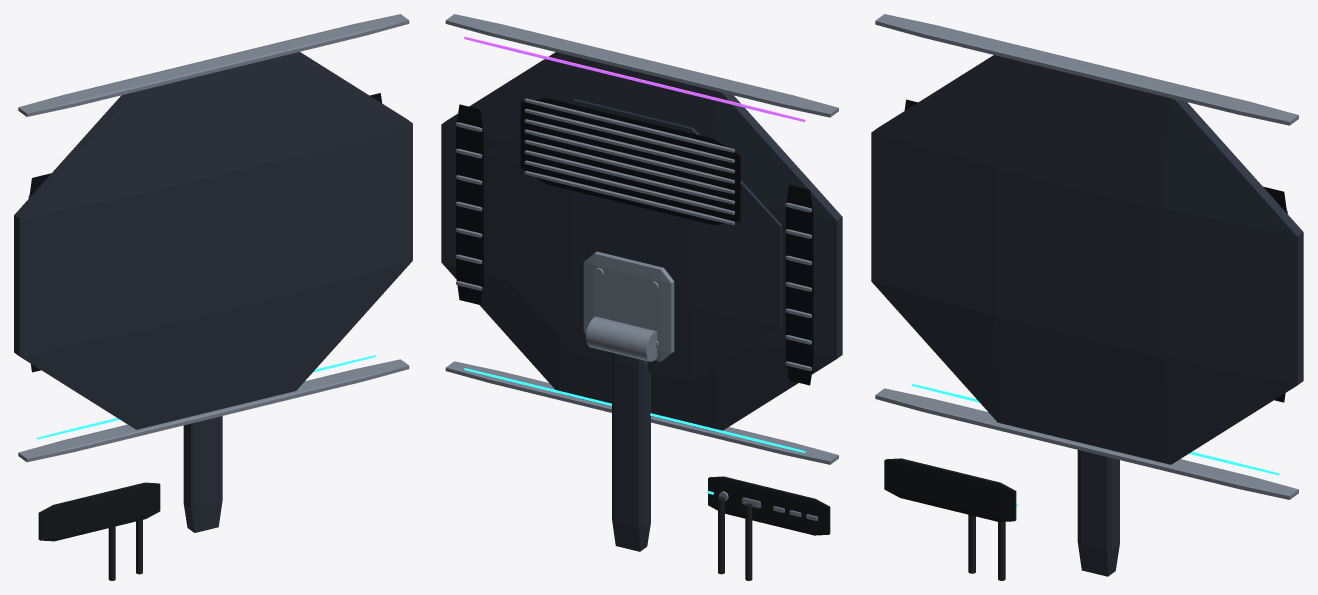
File: monitor-rear-details.glb
3 views of the same model, side by side, from view 1: azimuth 30°, elevation 25°; view 2: azimuth 150°, elevation 25°; view 3: azimuth 330°, elevation 25° (orthographic). The views are drawn at different scales.
Parts seen in each view (by area): view 1: rear-housing-main, rear-housing-trim-top, rear-housing-trim-bottom, rear-io-panel, rear-stand-arm; view 2: rear-housing-main, rear-housing-cap, rear-vent-field, rear-stand-arm, rear-vesa-plate, rear-housing-trim-top, rear-side-vent--1, rear-side-vent-1, rear-io-panel, rear-housing-trim-bottom, rear-hinge, rear-violet-strip (+11 smaller); view 3: rear-housing-main, rear-housing-trim-top, rear-housing-trim-bottom, rear-io-panel, rear-stand-arm.
Part boxes in pixels (<box>): rear-housing-main: <box>14,52,412,429</box>; rear-housing-trim-top: <box>18,14,409,116</box>; rear-housing-trim-bottom: <box>18,359,409,462</box>; rear-io-panel: <box>38,482,160,541</box>; rear-stand-arm: <box>183,416,222,532</box>; rear-housing-main: <box>441,52,842,432</box>; rear-housing-cap: <box>484,99,782,381</box>; rear-vent-field: <box>520,98,740,225</box>; rear-stand-arm: <box>612,353,650,551</box>; rear-vesa-plate: <box>583,251,674,361</box>; rear-housing-trim-top: <box>445,14,838,117</box>; rear-side-vent--1: <box>785,185,813,385</box>; rear-side-vent-1: <box>456,104,483,304</box>; rear-io-panel: <box>708,476,830,535</box>; rear-housing-trim-bottom: <box>445,361,838,464</box>; rear-hinge: <box>585,316,657,361</box>; rear-violet-strip: <box>464,36,805,121</box>; rear-housing-main: <box>871,55,1303,464</box>; rear-housing-trim-top: <box>875,14,1298,125</box>; rear-housing-trim-bottom: <box>875,388,1298,499</box>; rear-io-panel: <box>884,458,1016,521</box>; rear-stand-arm: <box>1077,450,1119,576</box>.
Bounding box in the file's own units: 0.72 × 0.856 × 0.105.
